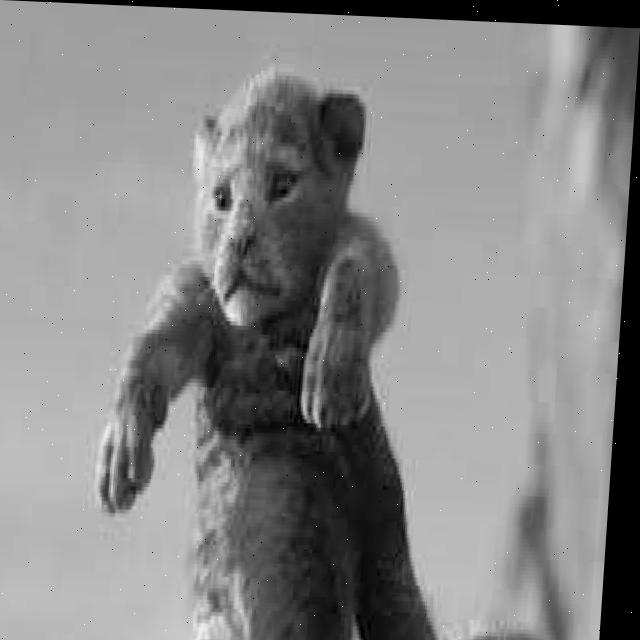Lion: (152, 67, 415, 512)
